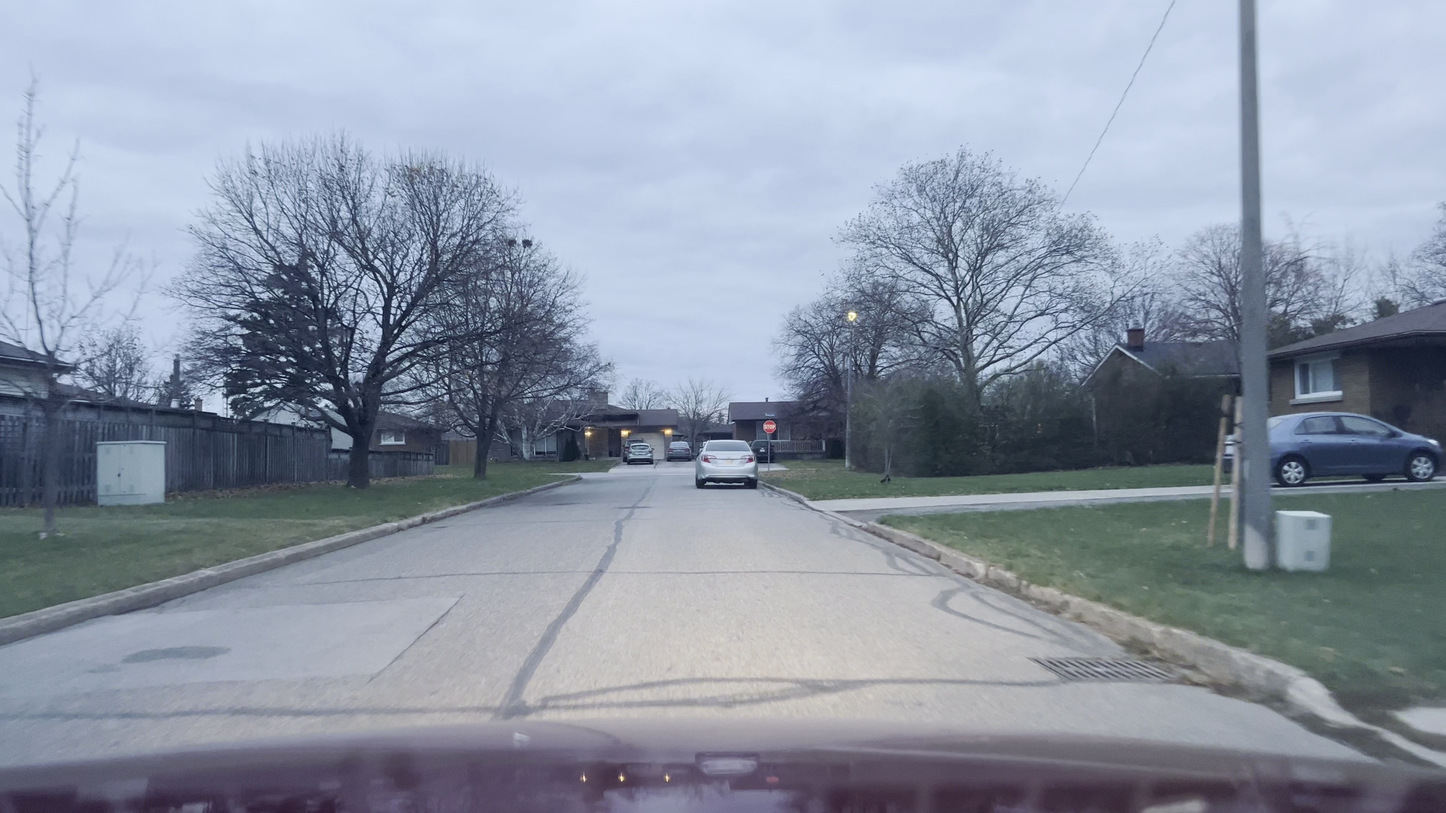cracks: (603, 665, 1034, 707), (497, 629, 593, 722), (916, 571, 1001, 620), (601, 499, 634, 589), (557, 547, 592, 625)
